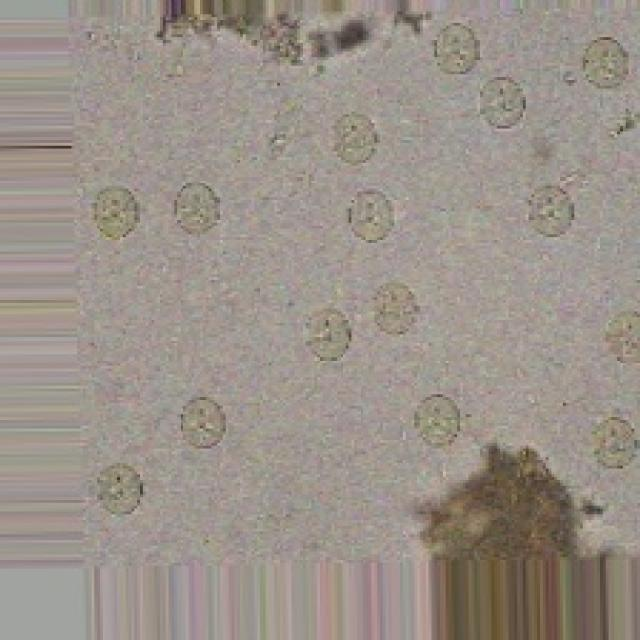Amoeba: (66, 0, 637, 566)
